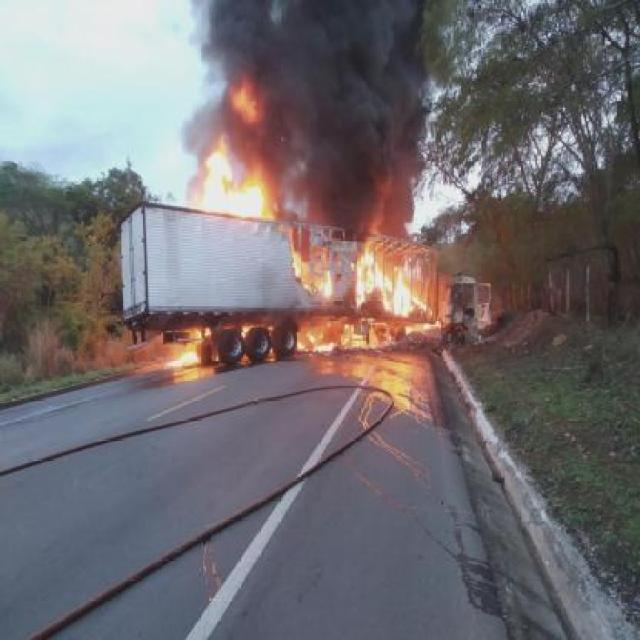Fire: (145, 101, 470, 402)
Smoke: (174, 0, 473, 248)
